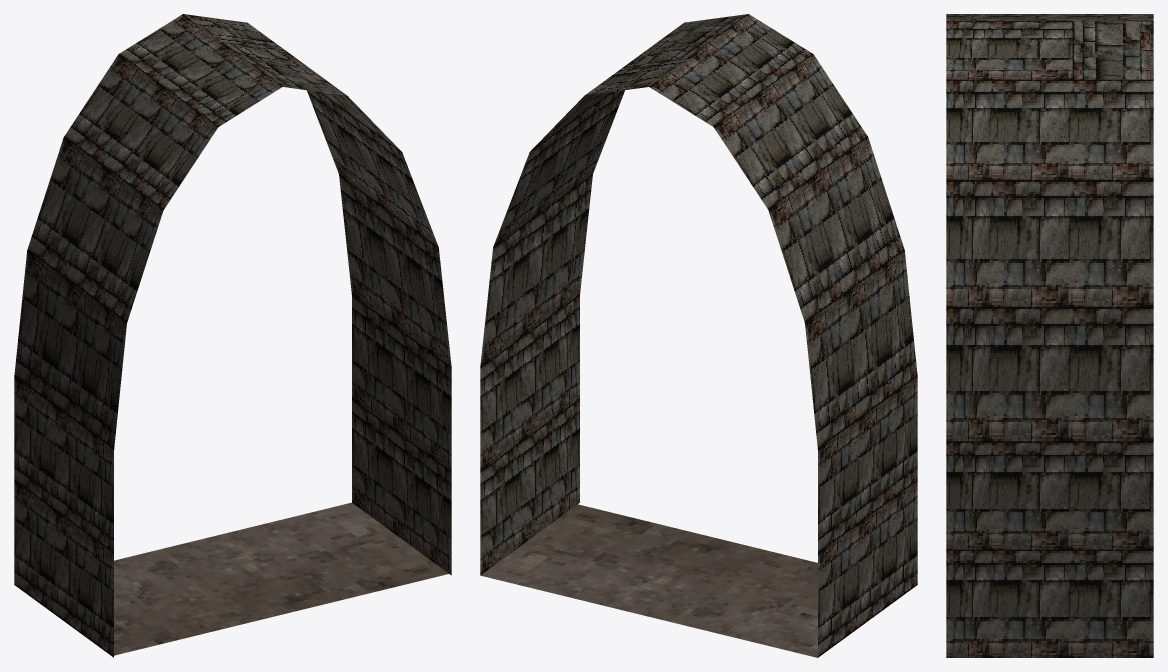
File: dungeon_corridor_half_model.gltf
3 renders of one model, left to right at view 1: azimuth 30°, elevation 25°; view 2: azimuth 150°, elevation 25°; view 3: azimuth 270°, elevation 25°, orthographic. The views are drawn at different scales.
Visible parts, largest first — view 1: Cube; view 2: Cube; view 3: Cube.
Boxes of the visible parts, left/top/right/bottom form: Cube: left=14, top=14, right=451, bottom=657; Cube: left=480, top=14, right=917, bottom=657; Cube: left=946, top=14, right=1153, bottom=657.
Size of the model in its own units: 2 by 3 by 1.02.
2 materials, 2 textured.
